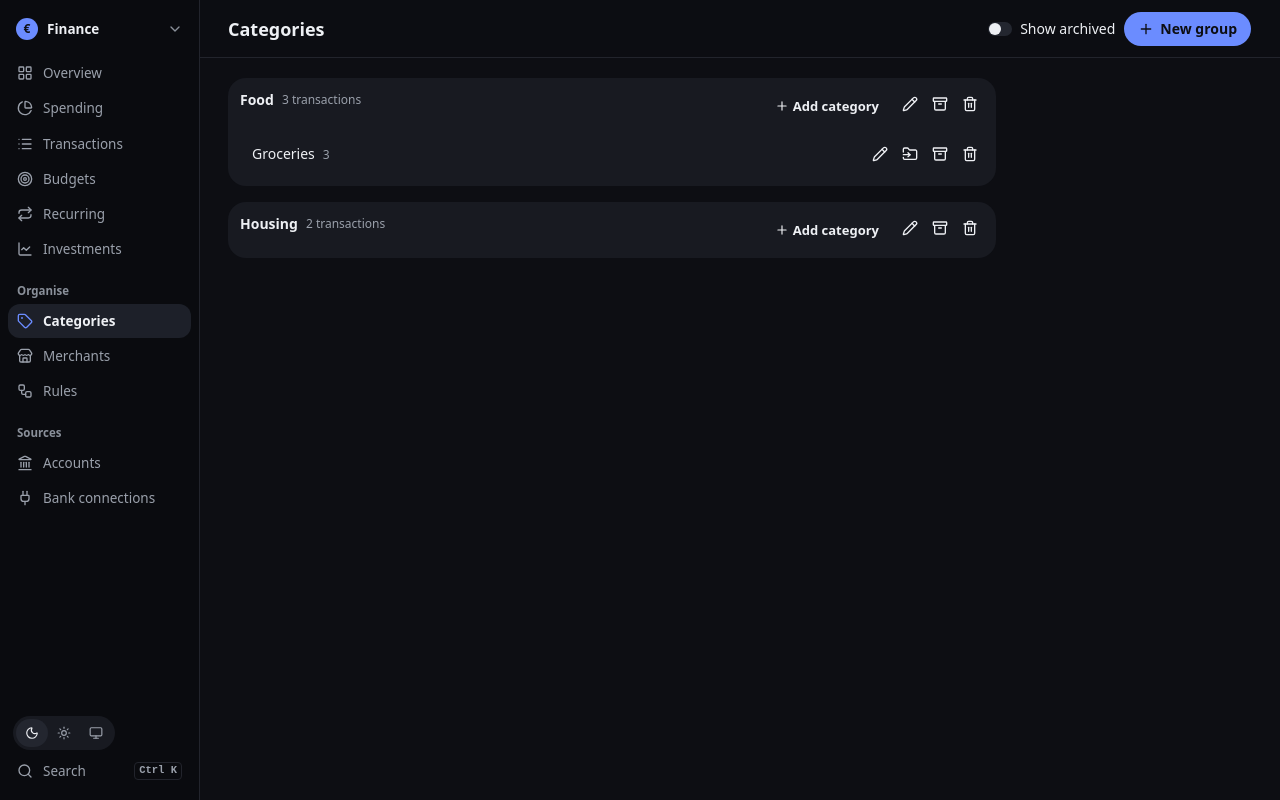
Test: shows the tree, with archived categories behind a switch
This screenshot has width=1280, height=800.
Expected: the text "Groceries" is shown, [252, 144, 315, 163]
Expected: the text "Housing" is shown, [240, 214, 298, 233]
Step 1. Click the switch named "Show archived" → point(1000, 28), box [988, 22, 1012, 36]
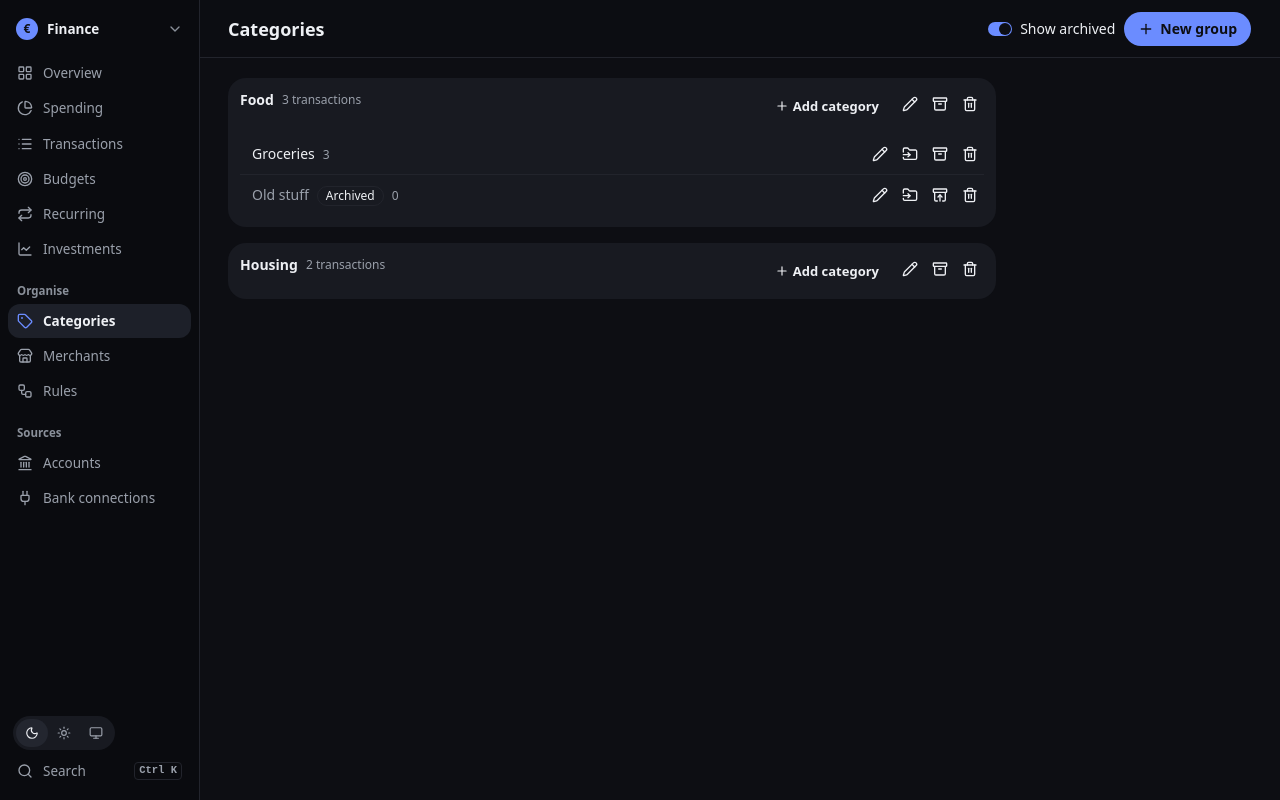
Expected: the text "Old stuff" is shown, [252, 184, 309, 204]
Expected: the button named "Unarchive Old stuff" is shown, [926, 181, 954, 209]
